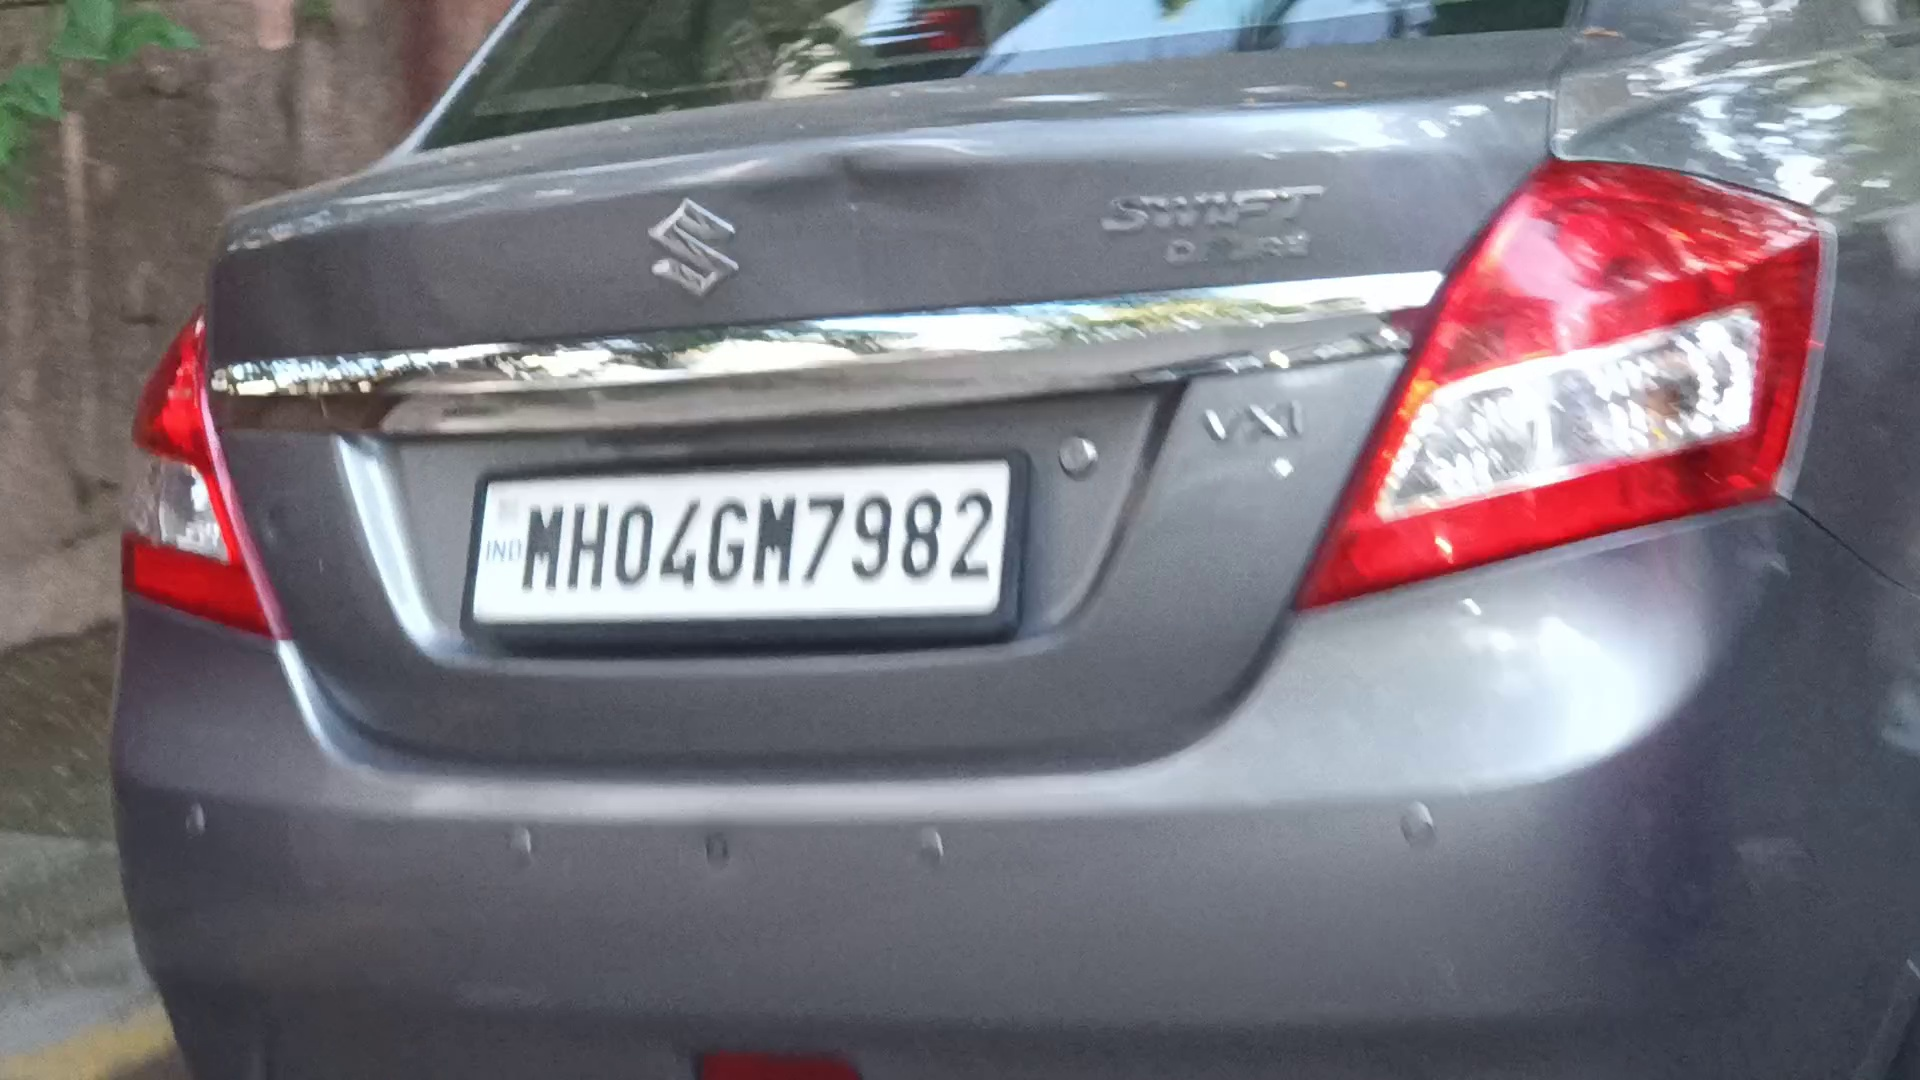MH04GM7982: (470, 458, 1009, 620)
